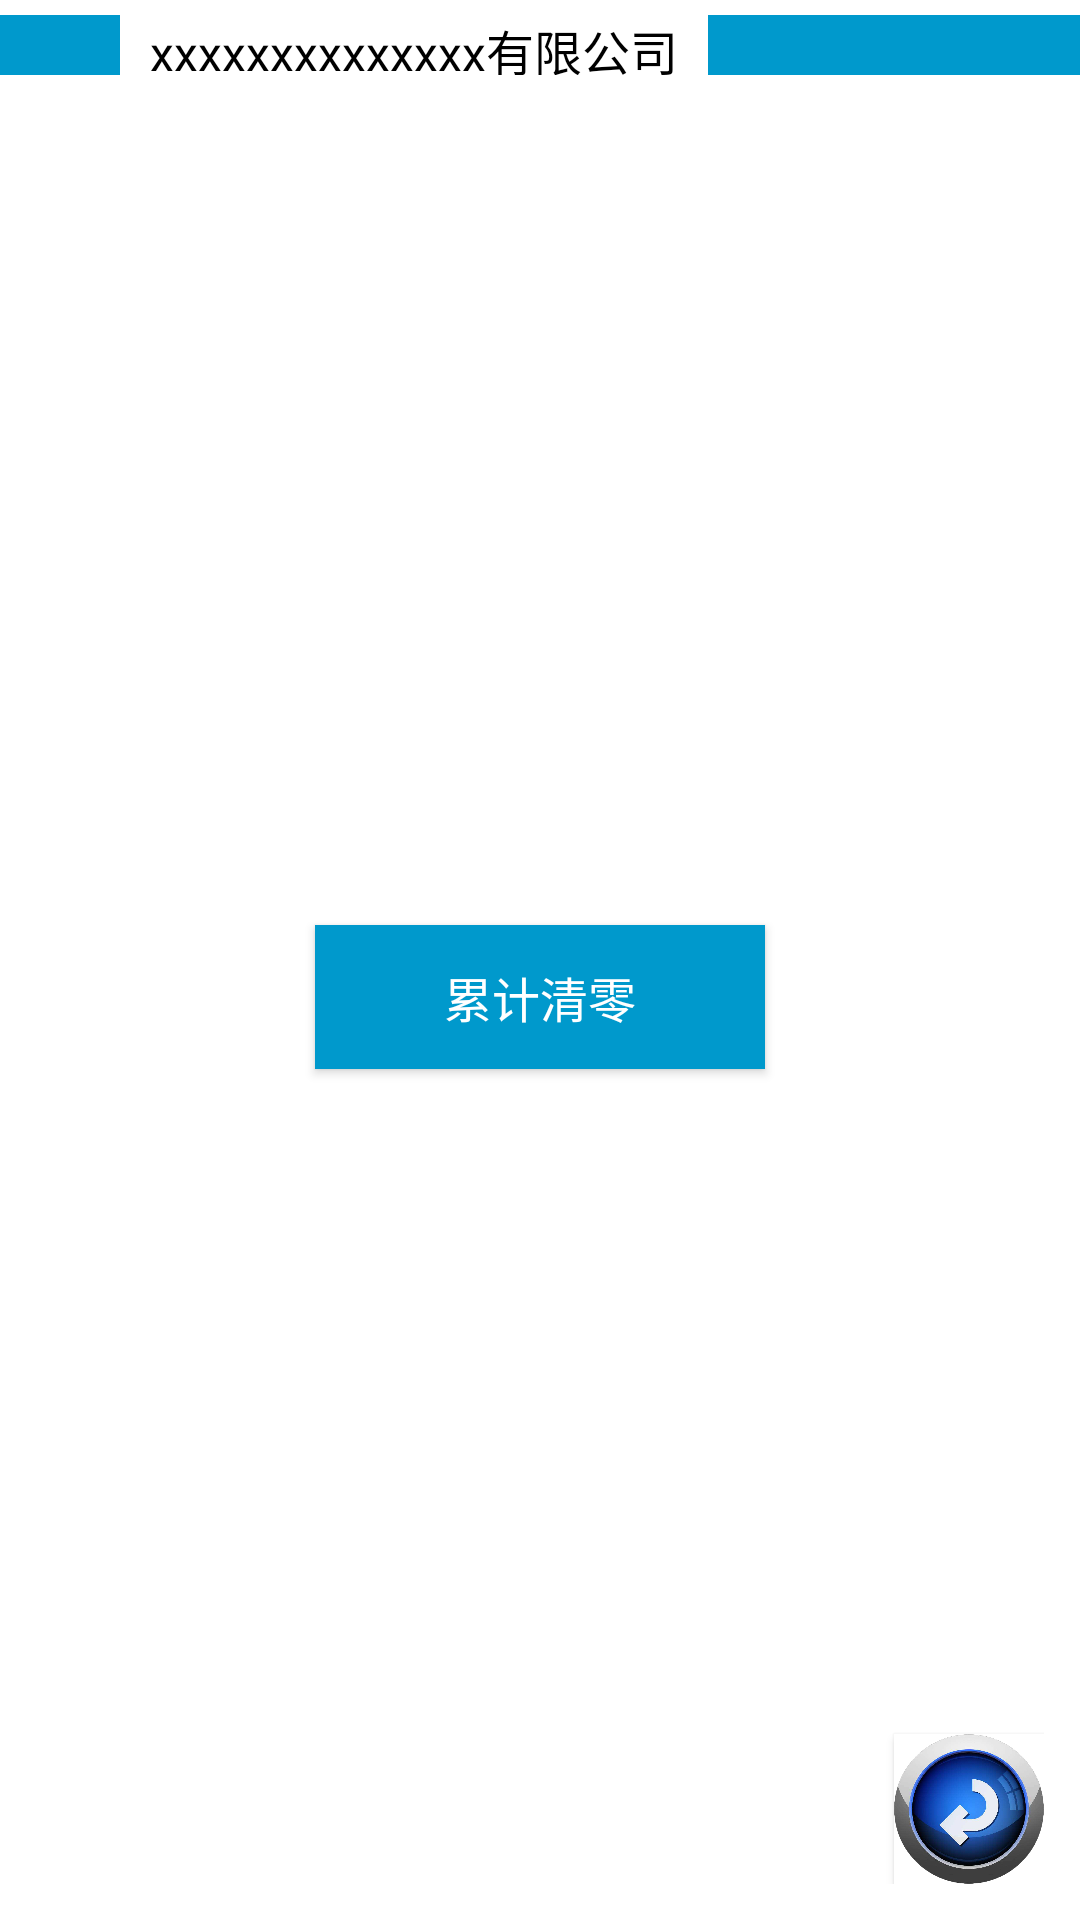

Screen size 1080×1920. Icon name, then its center in pixels as point (x, y):
back: point (969, 1809)
